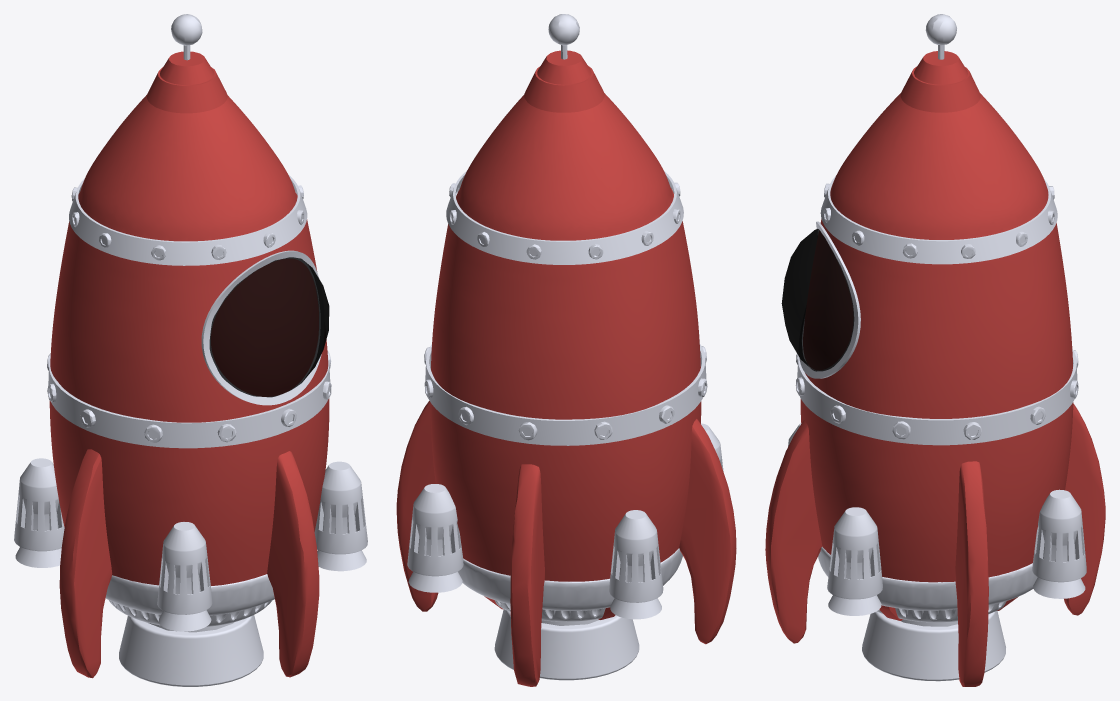
The model's file is rocket-c4d.gltf.
The picture shows the model from 3 angles, left to right: view 1: azimuth 30°, elevation 25°; view 2: azimuth 150°, elevation 25°; view 3: azimuth 270°, elevation 25°; orthographic projection.
Parts seen in each view (by area): view 1: 火箭发射-ks.obj_16, 火箭发射-ks.obj_15, 火箭发射-ks.obj_13, 火箭发射-ks.obj, 火箭发射-ks.obj_2, 火箭发射-ks.obj_3, 火箭发射-ks.obj_7, 火箭发射-ks.obj_11, 火箭发射-ks.obj_9, 火箭发射-ks.obj_5, 火箭发射-ks.obj_1, 火箭发射-ks.obj_6 (+3 smaller); view 2: 火箭发射-ks.obj_16, 火箭发射-ks.obj_15, 火箭发射-ks.obj_13, 火箭发射-ks.obj, 火箭发射-ks.obj_7, 火箭发射-ks.obj_3, 火箭发射-ks.obj_11, 火箭发射-ks.obj_5, 火箭发射-ks.obj_9, 火箭发射-ks.obj_6, 火箭发射-ks.obj_10, 火箭发射-ks.obj_8 (+1 smaller); view 3: 火箭发射-ks.obj_16, 火箭发射-ks.obj_15, 火箭发射-ks.obj_13, 火箭发射-ks.obj, 火箭发射-ks.obj_2, 火箭发射-ks.obj_7, 火箭发射-ks.obj_3, 火箭发射-ks.obj_11, 火箭发射-ks.obj_5, 火箭发射-ks.obj_9, 火箭发射-ks.obj_1, 火箭发射-ks.obj_6 (+3 smaller).
Boxes of the visible parts, <box> form: 火箭发射-ks.obj_16: <box>49,219,329,585</box>; 火箭发射-ks.obj_15: <box>78,94,297,241</box>; 火箭发射-ks.obj_13: <box>59,449,319,678</box>; 火箭发射-ks.obj: <box>14,458,367,631</box>; 火箭发射-ks.obj_2: <box>209,257,329,397</box>; 火箭发射-ks.obj_3: <box>119,615,263,686</box>; 火箭发射-ks.obj_7: <box>48,357,330,448</box>; 火箭发射-ks.obj_11: <box>69,175,307,265</box>; 火箭发射-ks.obj_9: <box>147,51,227,113</box>; 火箭发射-ks.obj_5: <box>105,574,274,615</box>; 火箭发射-ks.obj_1: <box>201,250,321,405</box>; 火箭发射-ks.obj_6: <box>47,351,331,442</box>; 火箭发射-ks.obj_16: <box>430,221,701,581</box>; 火箭发射-ks.obj_15: <box>456,93,673,240</box>; 火箭发射-ks.obj_13: <box>396,401,736,686</box>; 火箭发射-ks.obj: <box>407,423,723,619</box>; 火箭发射-ks.obj_7: <box>425,343,706,445</box>; 火箭发射-ks.obj_3: <box>494,609,639,680</box>; 火箭发射-ks.obj_11: <box>446,171,683,264</box>; 火箭发射-ks.obj_5: <box>458,548,682,610</box>; 火箭发射-ks.obj_9: <box>524,50,604,112</box>; 火箭发射-ks.obj_6: <box>424,346,707,440</box>; 火箭发射-ks.obj_10: <box>449,182,680,259</box>; 火箭发射-ks.obj_8: <box>548,14,579,59</box>; 火箭发射-ks.obj_16: <box>800,219,1073,582</box>; 火箭发射-ks.obj_15: <box>830,93,1048,239</box>; 火箭发射-ks.obj_13: <box>765,403,1105,686</box>; 火箭发射-ks.obj: <box>788,423,1086,615</box>; 火箭发射-ks.obj_2: <box>781,229,854,371</box>; 火箭发射-ks.obj_7: <box>797,349,1077,445</box>; 火箭发射-ks.obj_3: <box>862,611,1005,681</box>; 火箭发射-ks.obj_11: <box>820,176,1057,264</box>; 火箭发射-ks.obj_5: <box>818,546,1037,610</box>; 火箭发射-ks.obj_9: <box>900,51,980,112</box>; 火箭发射-ks.obj_1: <box>799,221,860,378</box>; 火箭发射-ks.obj_6: <box>795,350,1078,439</box>.
Size of the model in its own units: 130 by 268 by 130.
